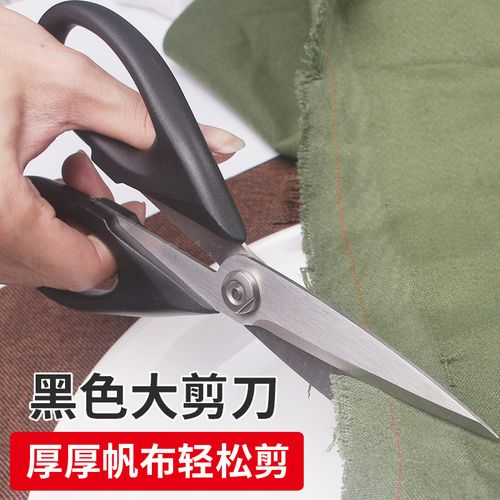scissor: (24, 2, 500, 444)
